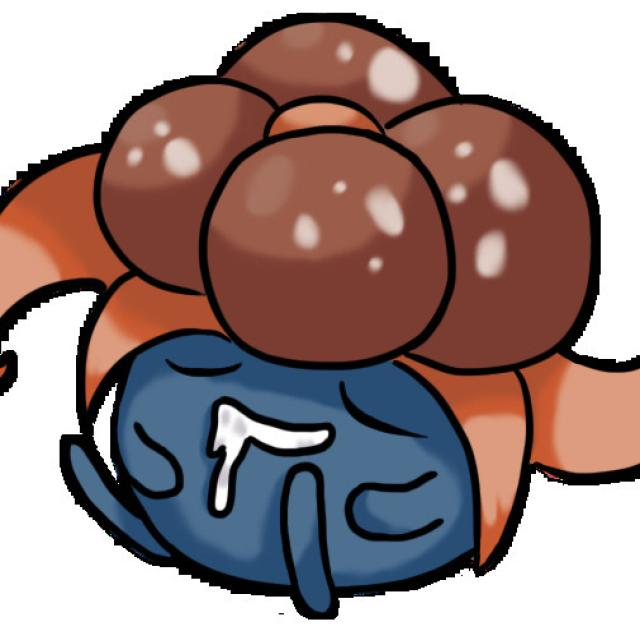Gloom: (47, 14, 615, 608)
